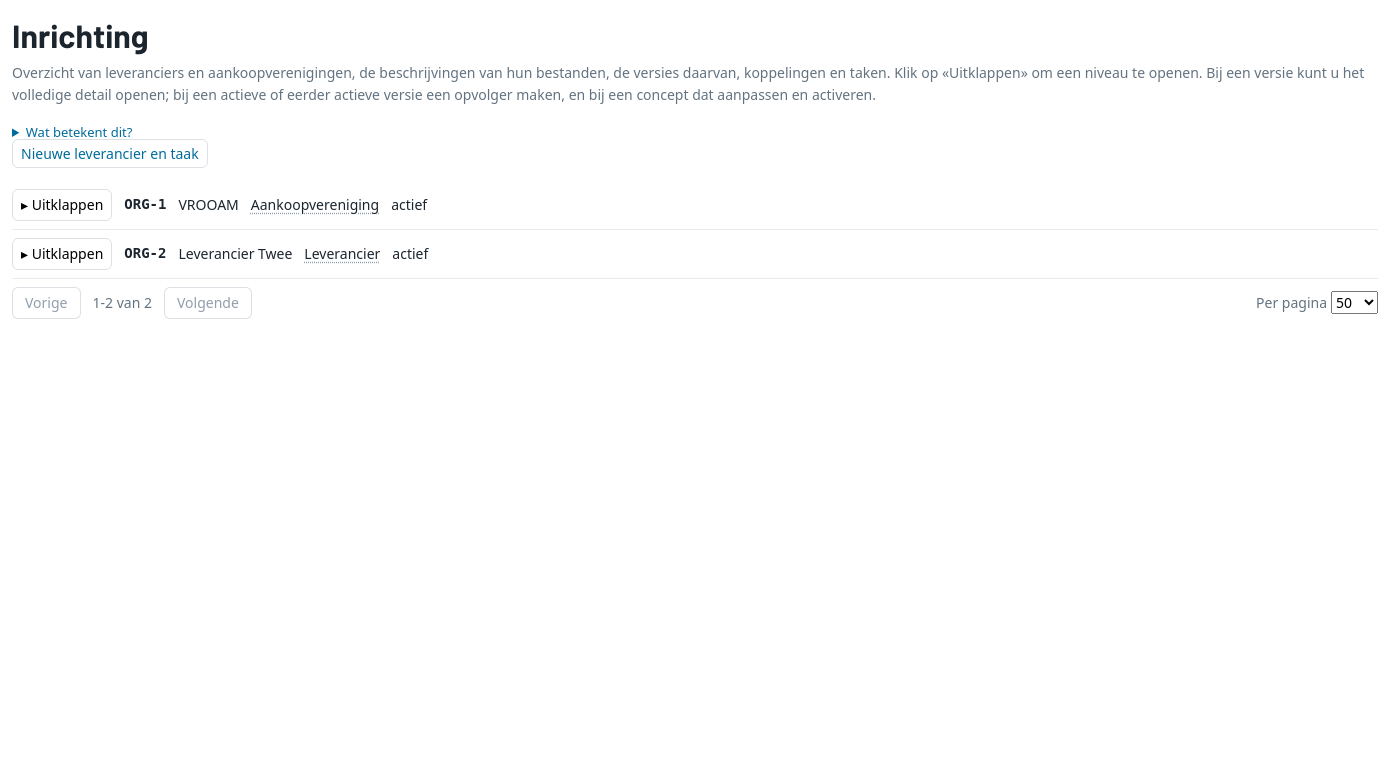
Test: SetupOverviewPage › S1-F1.5 / NT-7.1: taken-niveau toont de takenlijst van de koppeling (geen vaste tekst meer)
This screenshot has width=1390, height=764.
Click the button "▸ Uitklappen" next to "ORG-1" at [62, 205], box [12,189,112,221]
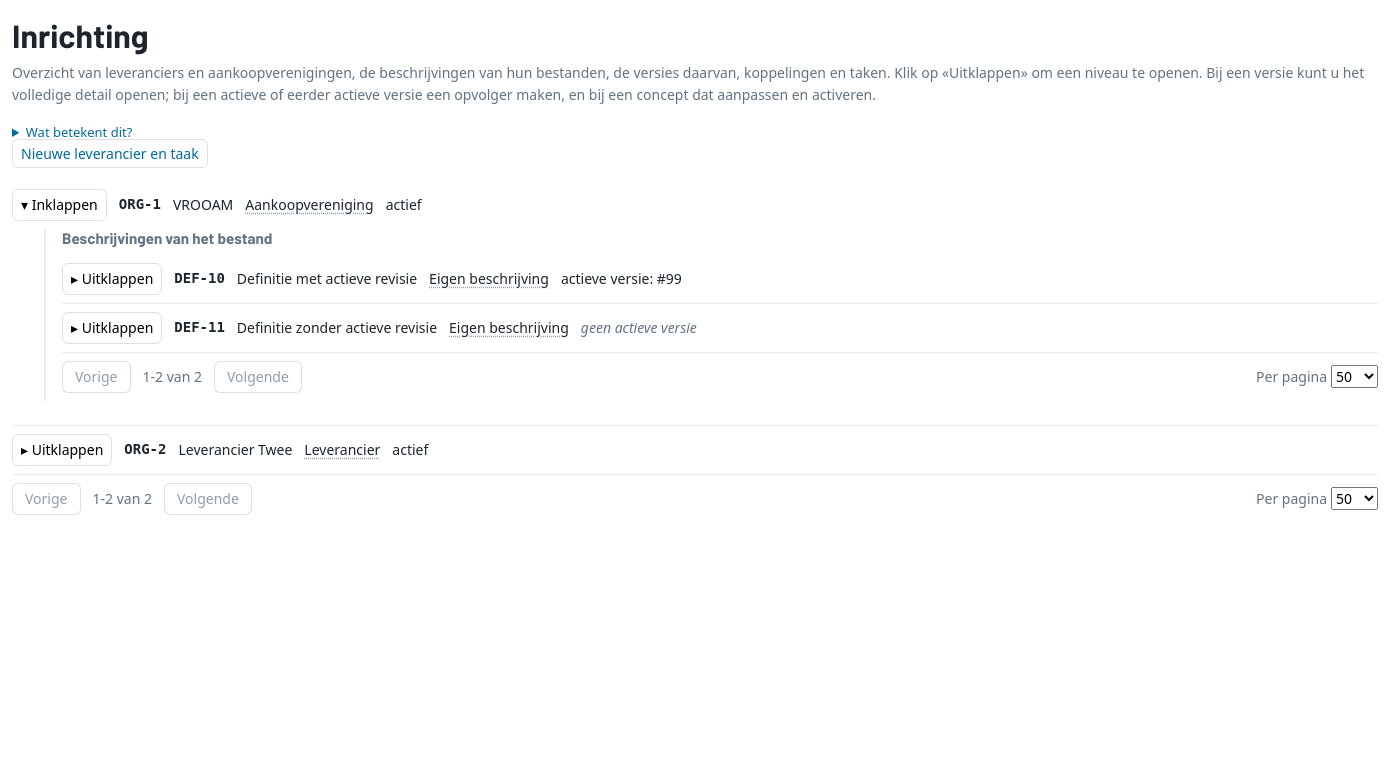
Click the button "▸ Uitklappen" next to "DEF-10" at [112, 279], box [62,263,162,295]
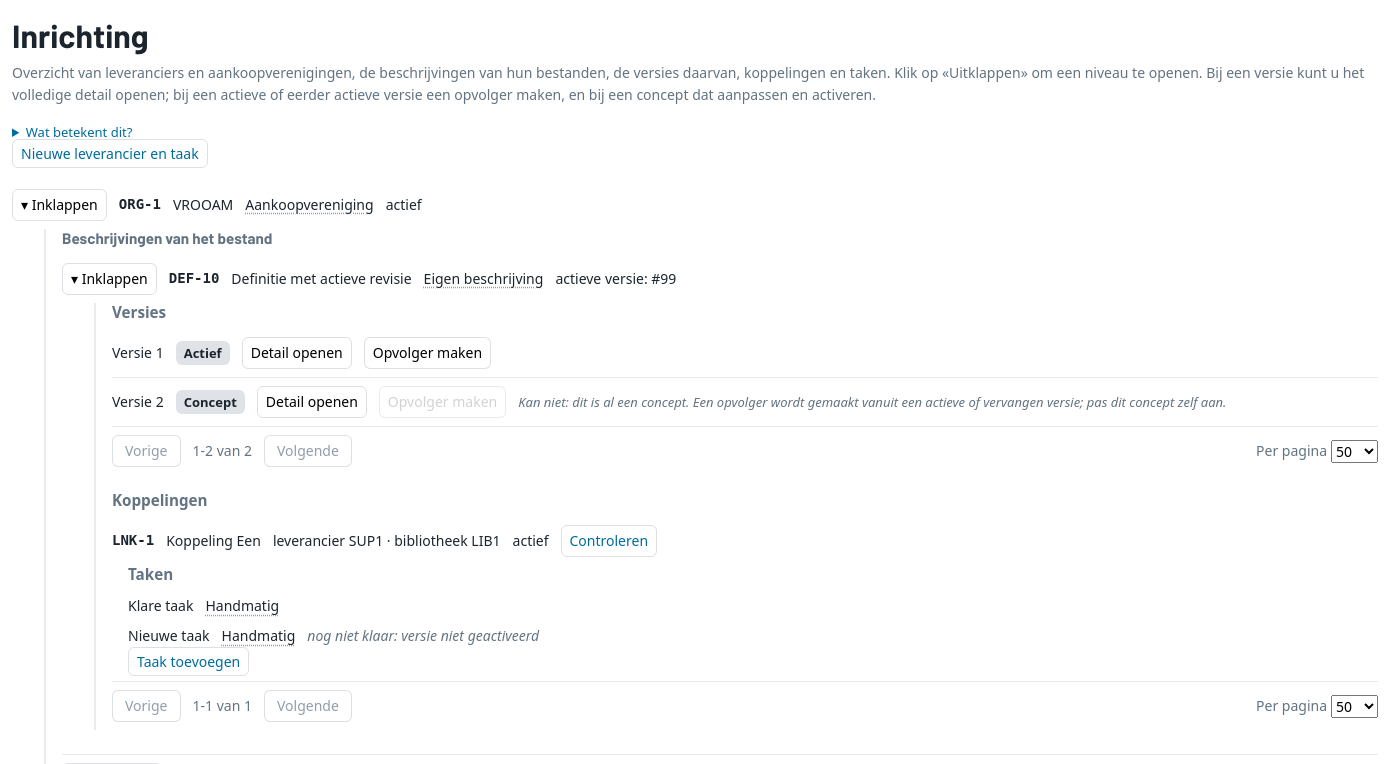
Result: the text "LNK-1" is shown at [112,530,154,552]
Result: the text "Klare taak" is shown at [128,596,193,618]
Result: the text "Nieuwe taak" is shown at [128,625,210,647]
